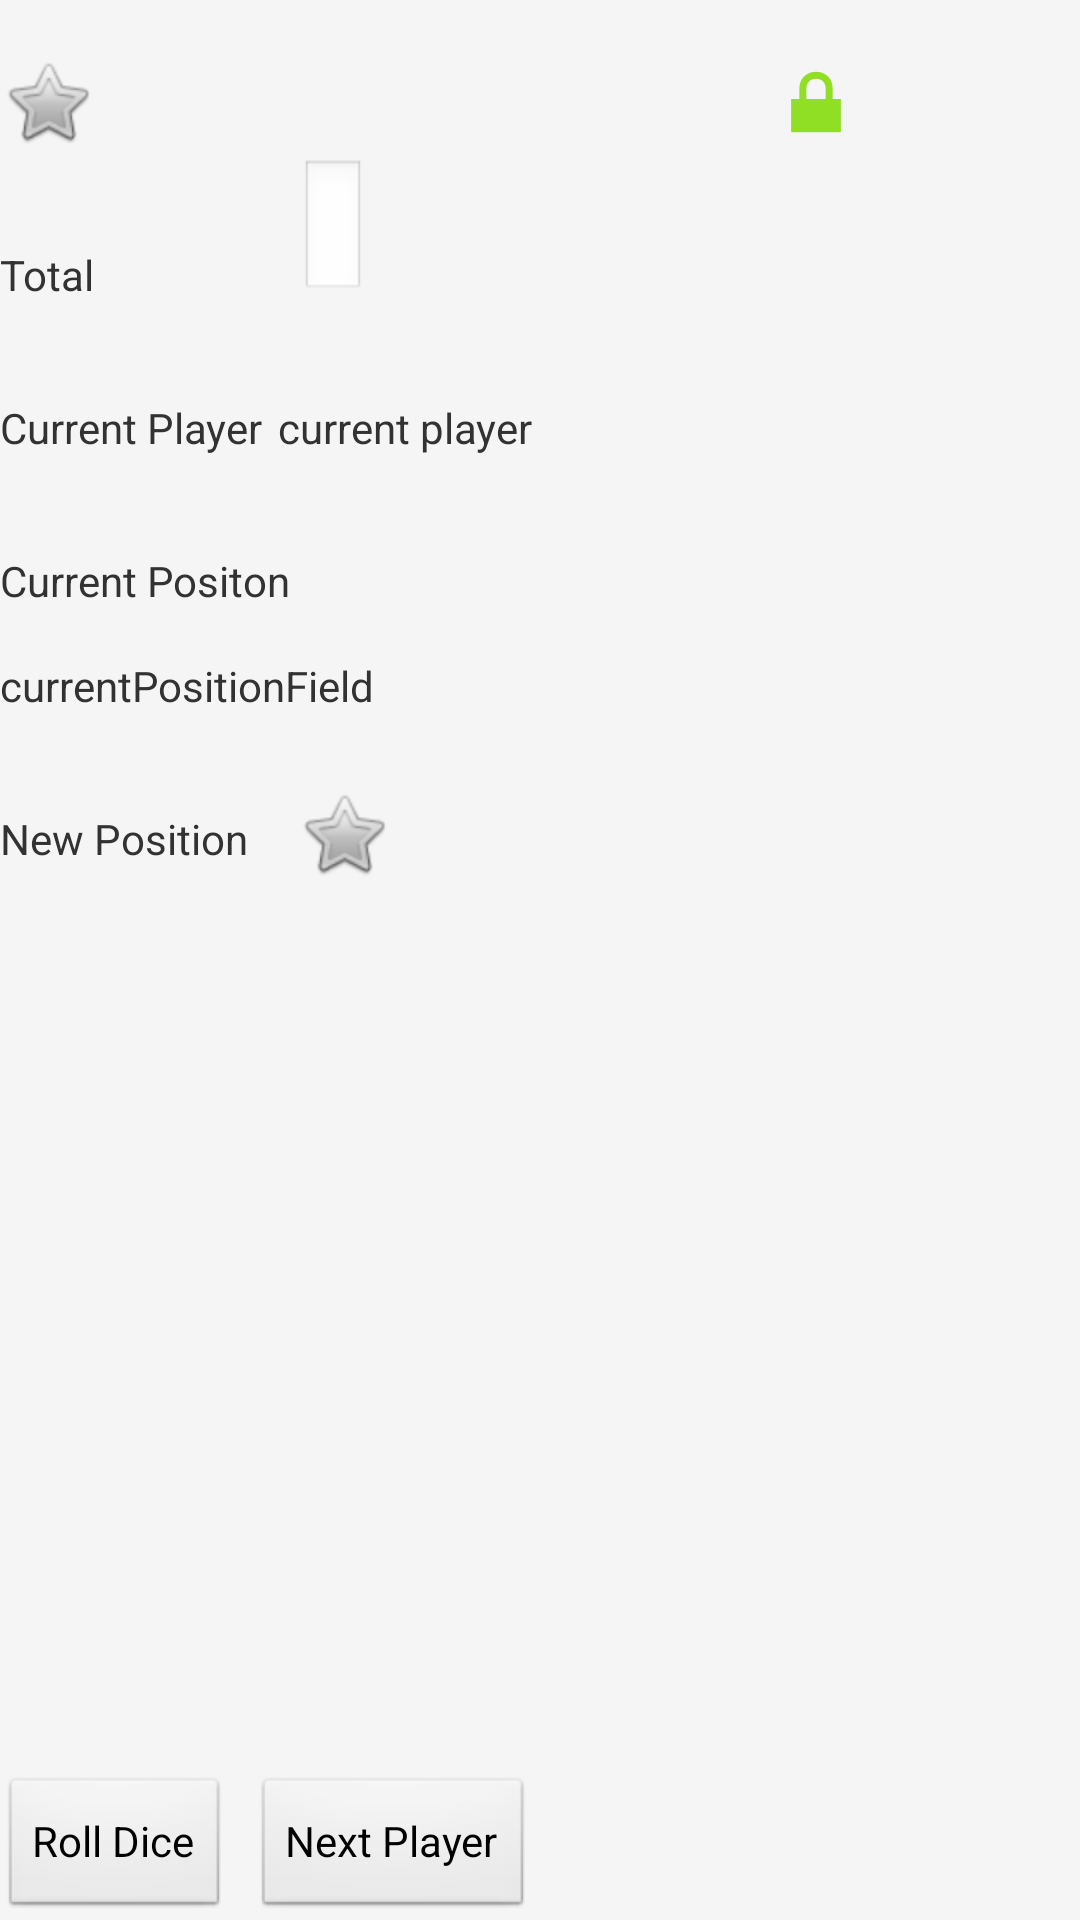

Icons on this 1080px×1920px Android screen, each with the point to tap as (x=x, y=y):
lock: (x=816, y=102)
star: (x=49, y=103), (x=345, y=835)
